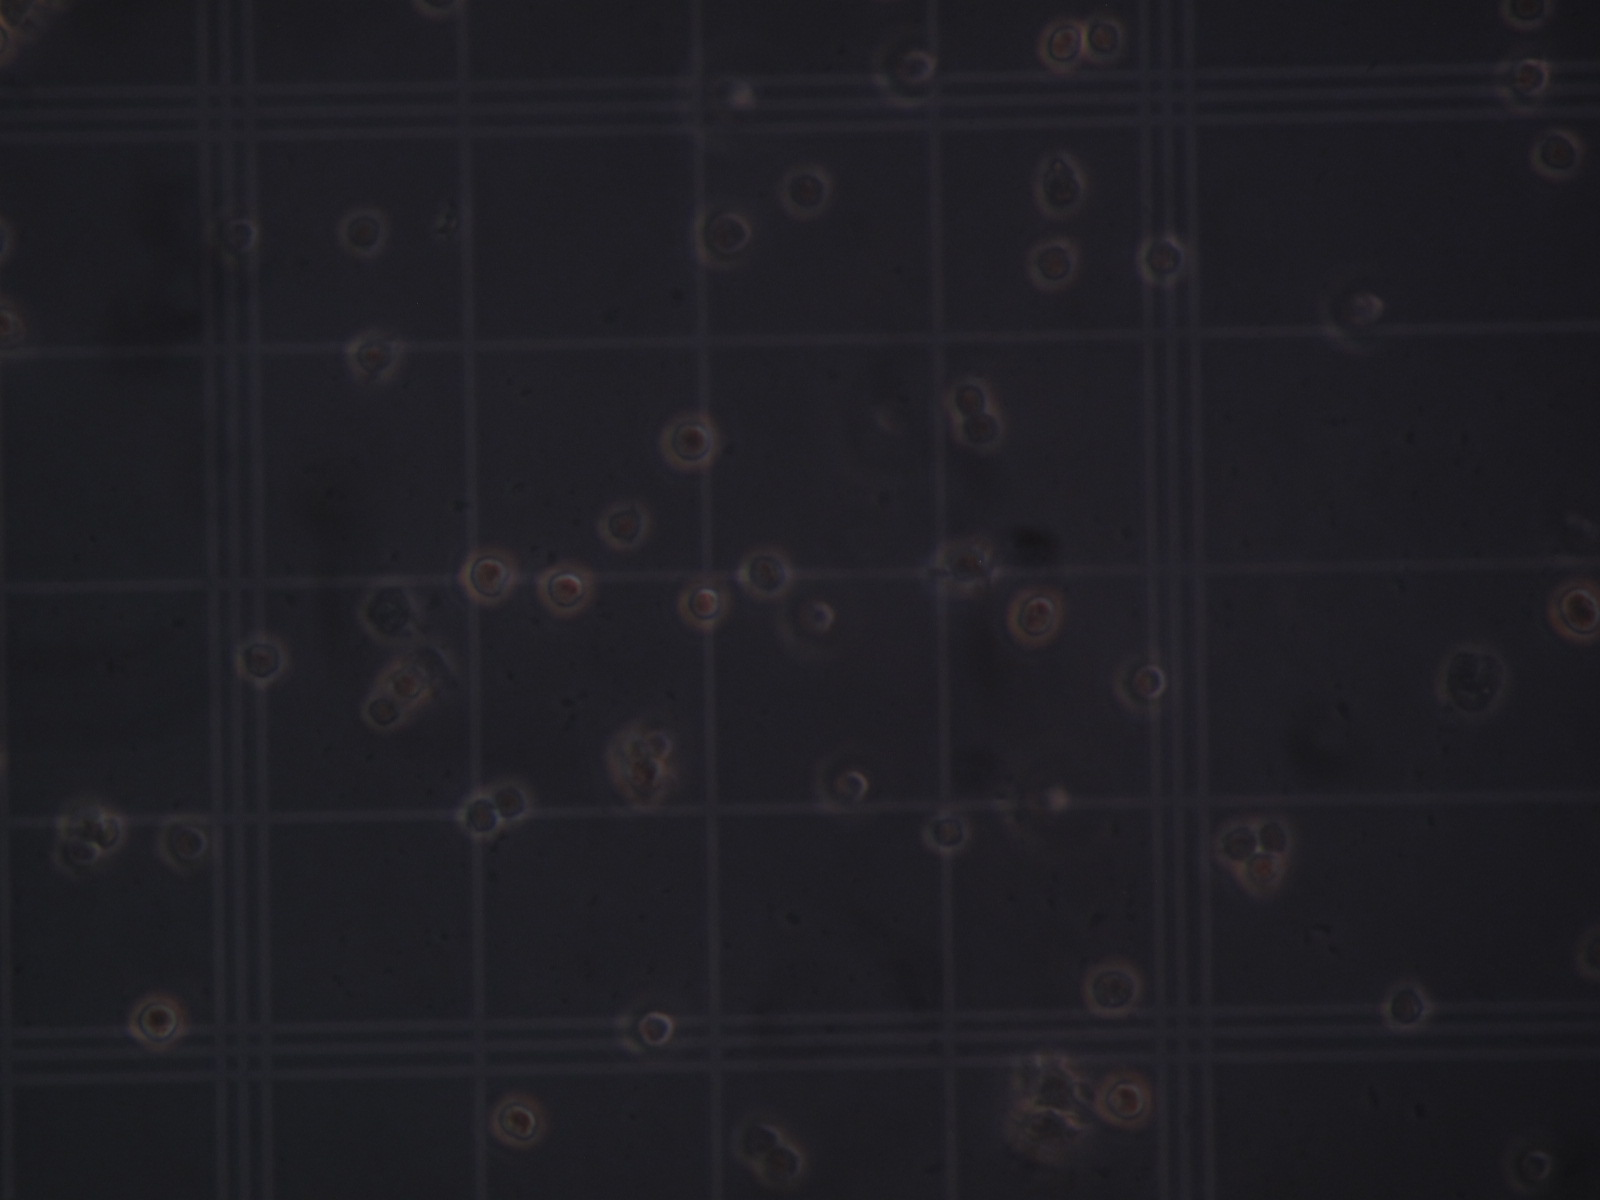hemo: (1317, 272, 1385, 355), (1436, 643, 1508, 717), (606, 729, 669, 807), (871, 37, 939, 108), (690, 203, 753, 271), (358, 579, 420, 644), (779, 592, 837, 661), (57, 799, 126, 853), (813, 751, 869, 816), (615, 1000, 675, 1059), (127, 993, 186, 1053), (1083, 961, 1143, 1018), (459, 547, 517, 606), (1034, 153, 1086, 218), (660, 412, 718, 470), (1493, 54, 1550, 113), (1007, 587, 1063, 645), (207, 207, 260, 268), (1547, 580, 1600, 642), (1096, 1071, 1153, 1128), (1112, 655, 1167, 713), (936, 539, 997, 591), (491, 1093, 546, 1150), (537, 563, 593, 616), (345, 330, 403, 382), (157, 816, 209, 872), (236, 633, 289, 687), (779, 165, 831, 219), (1503, 1137, 1553, 1194), (737, 547, 792, 597), (1529, 129, 1584, 179), (732, 1116, 784, 1167), (336, 205, 388, 257), (1027, 238, 1078, 290), (598, 500, 651, 550), (677, 581, 729, 630), (1038, 19, 1086, 73), (1136, 234, 1186, 286), (1382, 981, 1430, 1031), (456, 792, 503, 839), (380, 661, 430, 705), (922, 811, 971, 855), (52, 833, 102, 876), (1238, 851, 1285, 896), (1216, 819, 1260, 867), (954, 411, 1005, 451), (757, 1145, 806, 1186), (1085, 15, 1125, 63), (946, 376, 991, 416), (362, 691, 406, 731), (491, 779, 530, 824), (1, 295, 26, 361), (1257, 816, 1294, 857), (1500, 1, 1553, 29), (1, 14, 16, 71)
